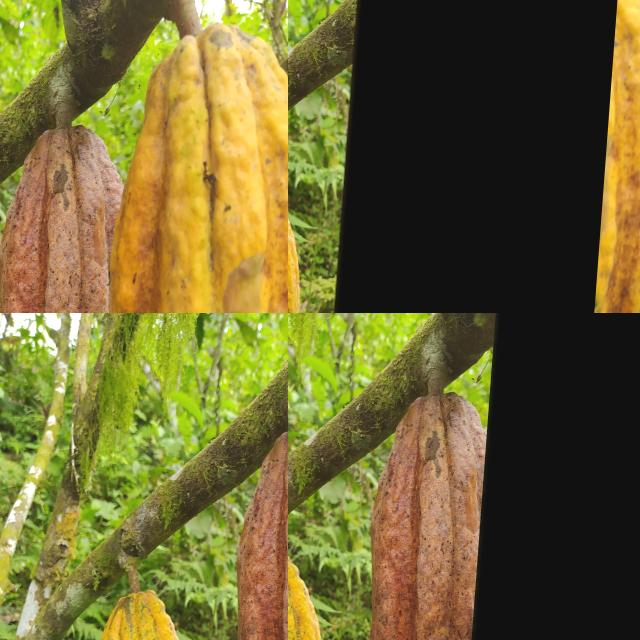Fitoftora: (100, 540, 124, 586)
Monilia: (329, 0, 626, 313)
Sana: (467, 313, 640, 640), (360, 389, 518, 640)
